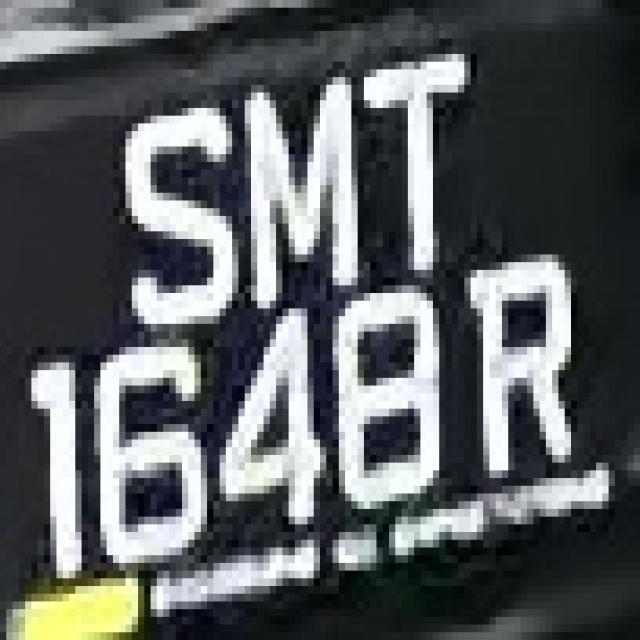1: (12, 308, 88, 617)
4: (182, 301, 333, 547)
6: (75, 324, 207, 578)
8: (314, 278, 452, 516)
M: (220, 62, 370, 300)
R: (452, 247, 602, 493)
S: (100, 92, 232, 362)
T: (351, 23, 477, 293)
